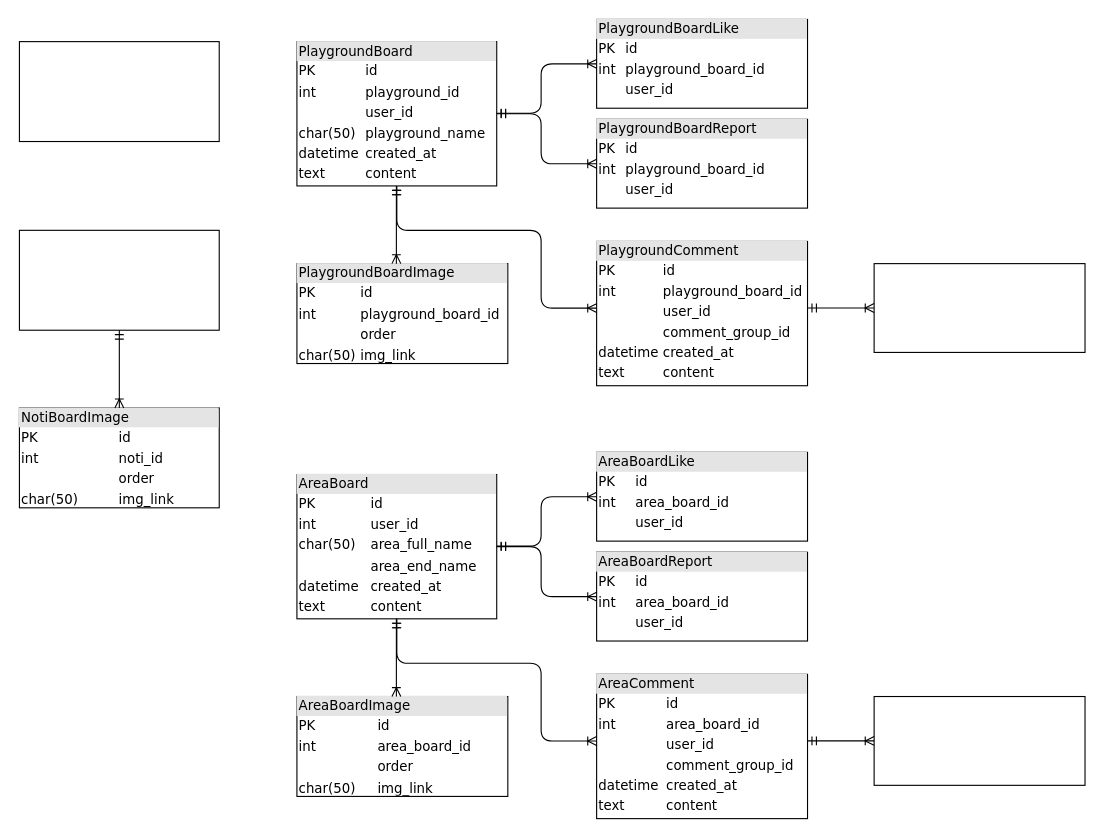
Some shapes in this 1104 by 838 pixel diagram are drawn without their labels. The shapes that lost their labels are listed below. From the top down, each one's centre as x and y in pixels, then its label:
At (118,91): "User PK id char(50) google_token nickname email".
At (118,279): "NotiBoard PK id char(50) title datetime created_at text content".
At (979,307): "PlaygroundCommentReport PK id int playground_comment_id user_id".
At (979,740): "AreaCommentReport PK id int area_comment_id user_id".
